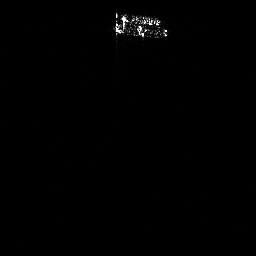ship: (114, 21, 169, 38), (118, 12, 162, 26)
